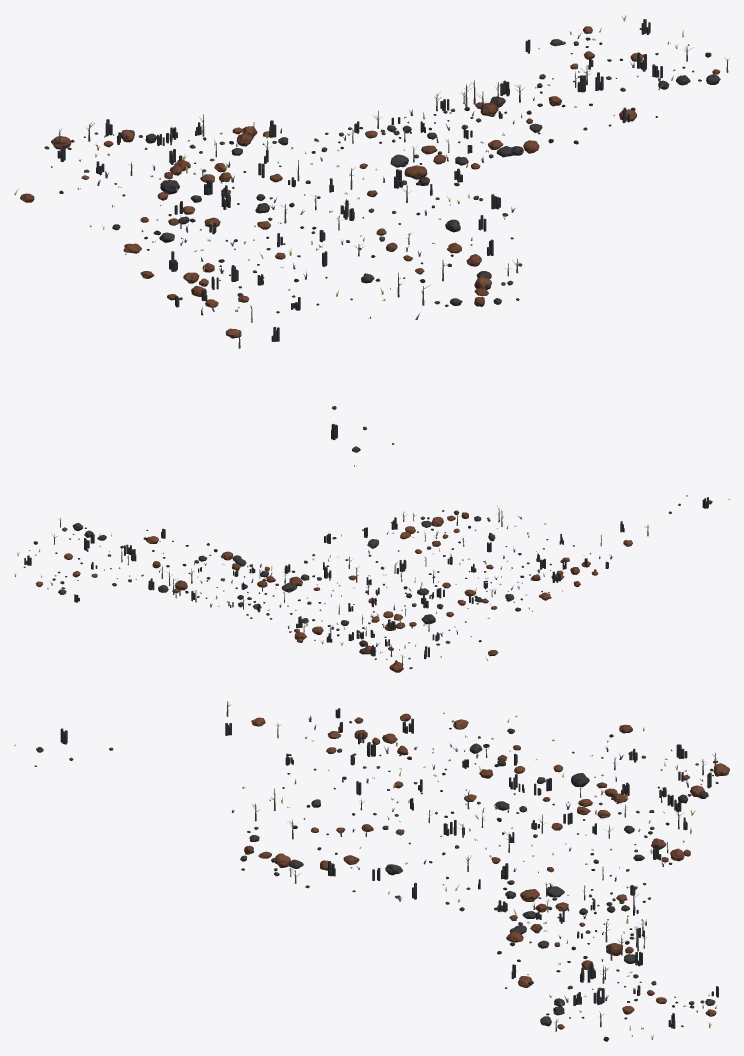
File: ash_land_scatter_c15_29.glb
3 renders of one model, top to bottom at view 1: azimuth 30°, elevation 25°; view 2: azimuth 150°, elevation 25°; view 3: azimuth 270°, elevation 25°, orthographic. The views are drawn at different scales.
Visible parts, largest first — view 1: ash_land_scatter_c15_29; view 2: ash_land_scatter_c15_29; view 3: ash_land_scatter_c15_29.
Boxes of the visible parts, x1,y1,x2,y2 form: ash_land_scatter_c15_29: (14, 15, 729, 466); ash_land_scatter_c15_29: (14, 495, 729, 672); ash_land_scatter_c15_29: (14, 701, 729, 1041).
Size of the model in its own units: 257 by 19.1 by 256.
